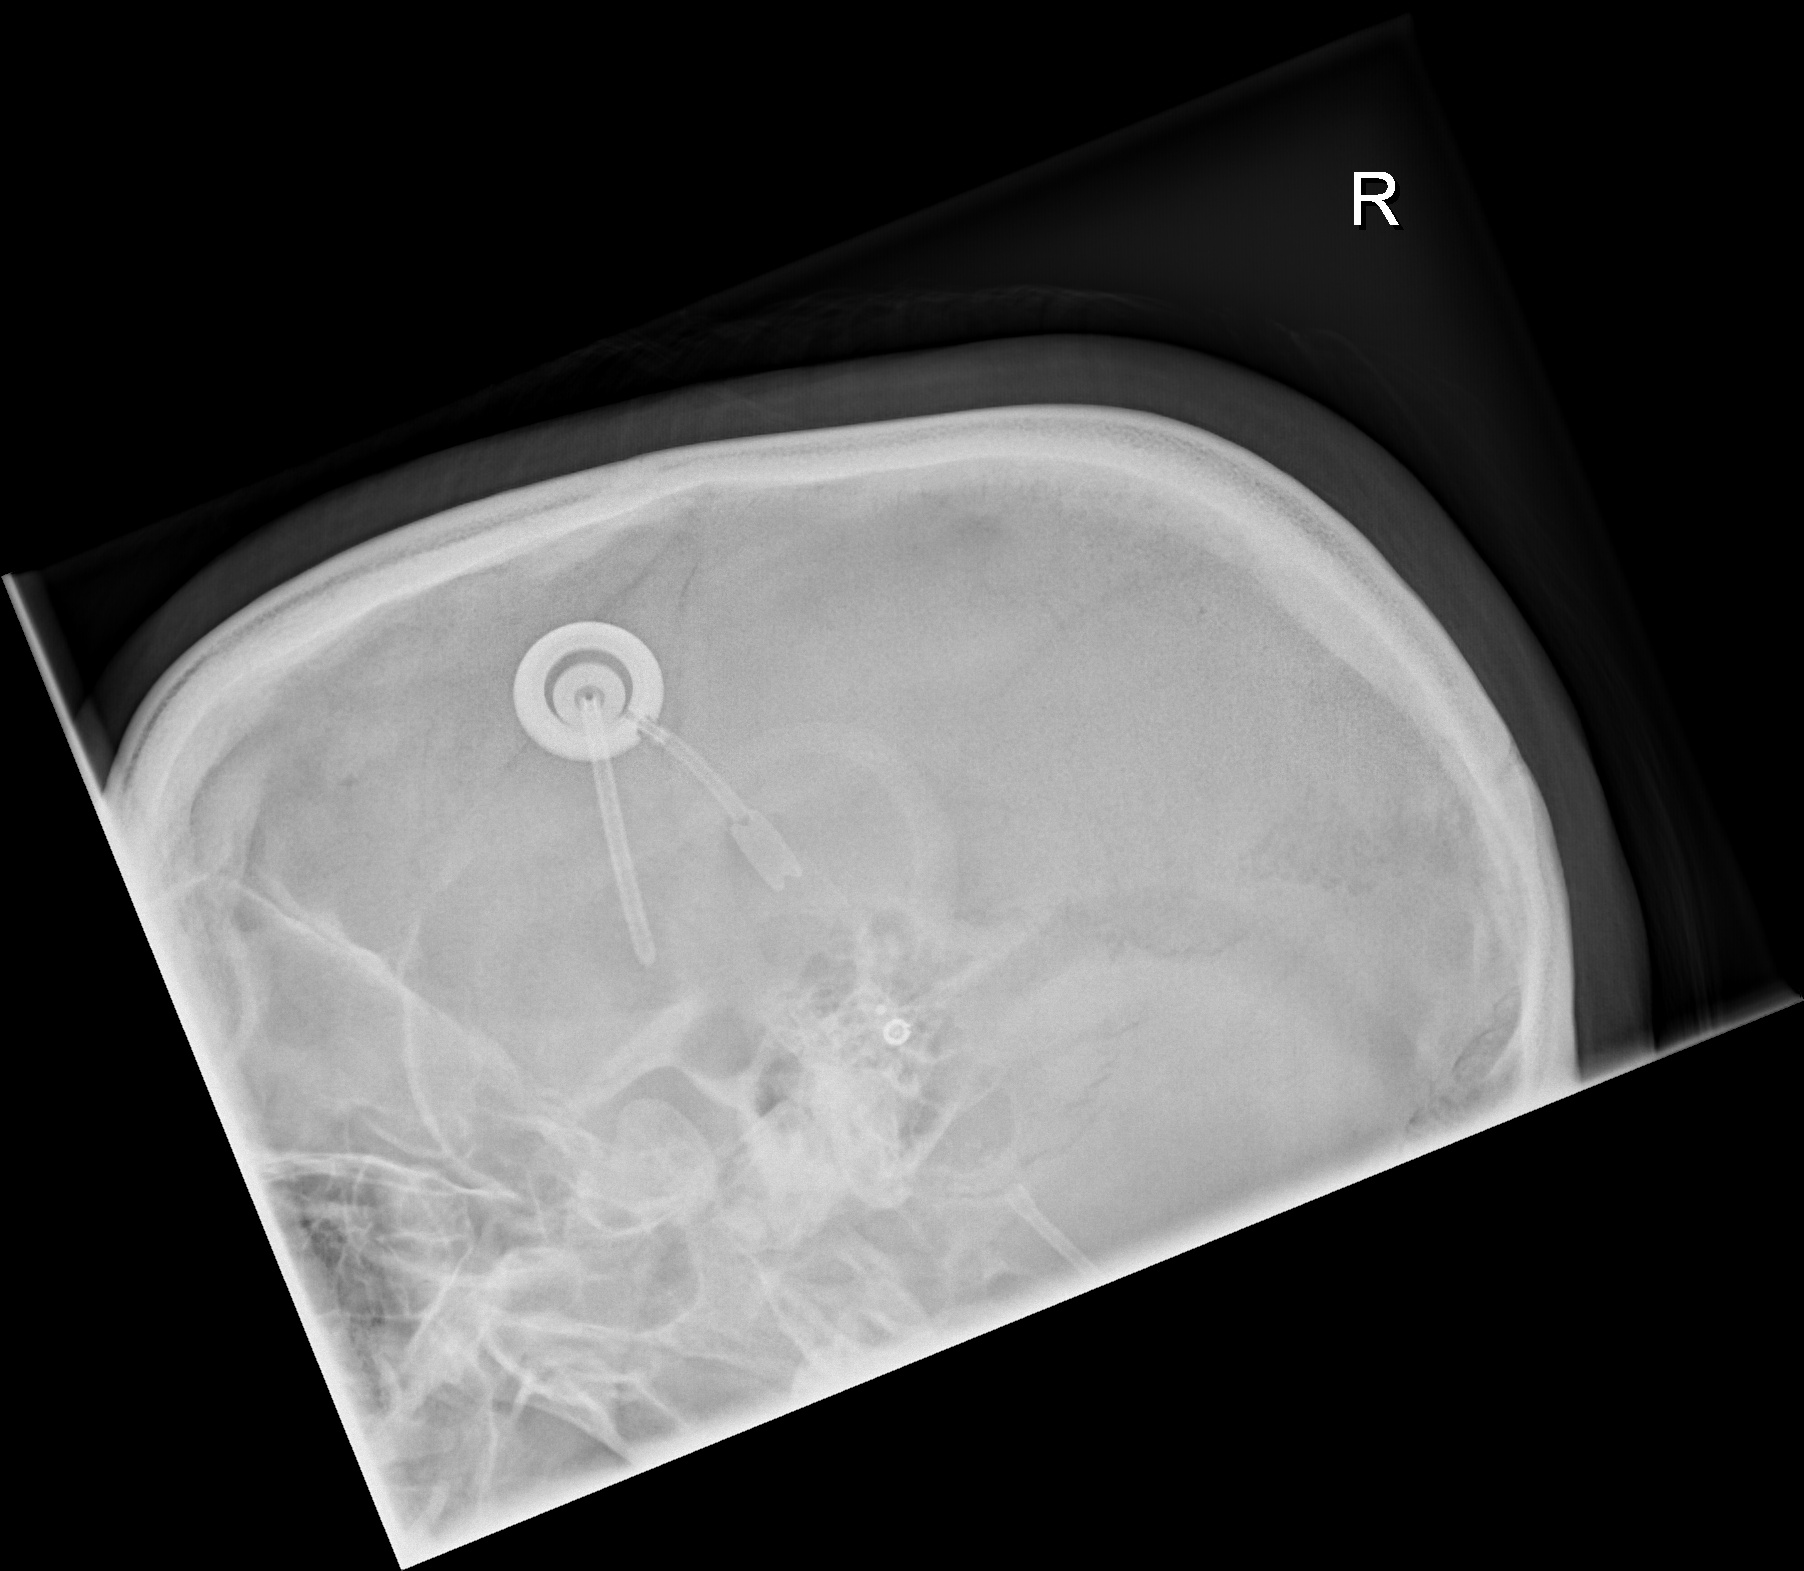Codman Hakim: (864, 986, 920, 1059)
